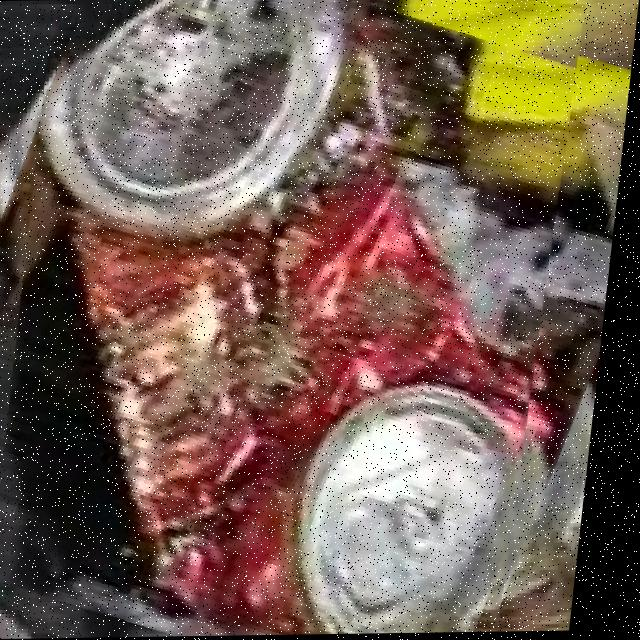can: (44, 0, 533, 637)
